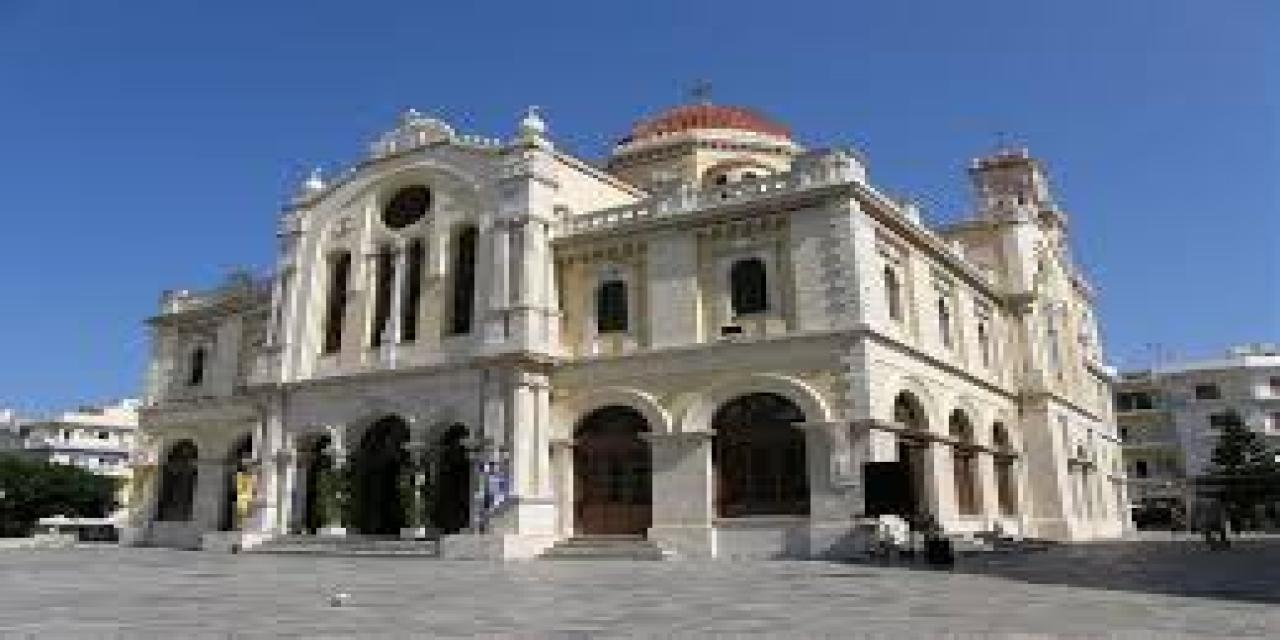Agios Minas: (138, 75, 1143, 551)
